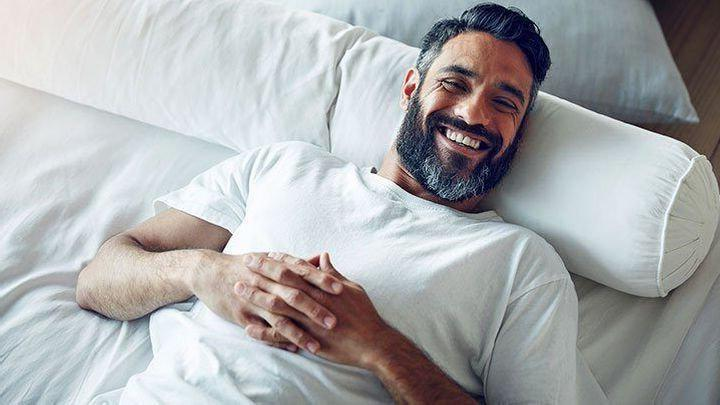Sober: (420, 34, 517, 172)
